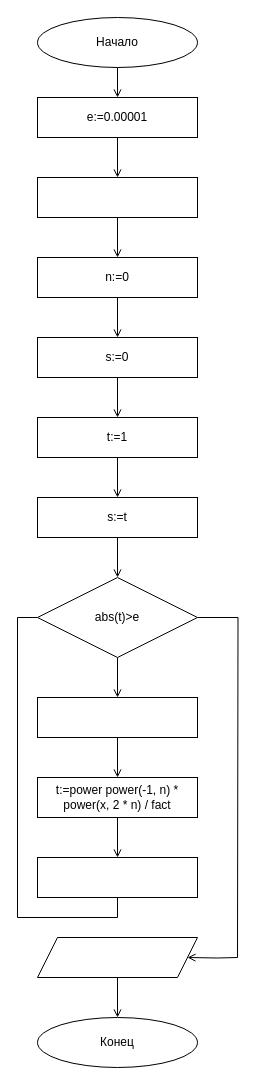
Image size: 263x1085. Some labels were removed from this diagram. The shapes that lost their labels are listed below. From the top down, each one's box as (x1, y1, x2, y2) in pixels, then its label:
(36, 176, 198, 218): x:=23
(36, 696, 198, 738): n:=n+1
(36, 856, 198, 898): s:=s+t
(36, 936, 198, 978): Вывод s
